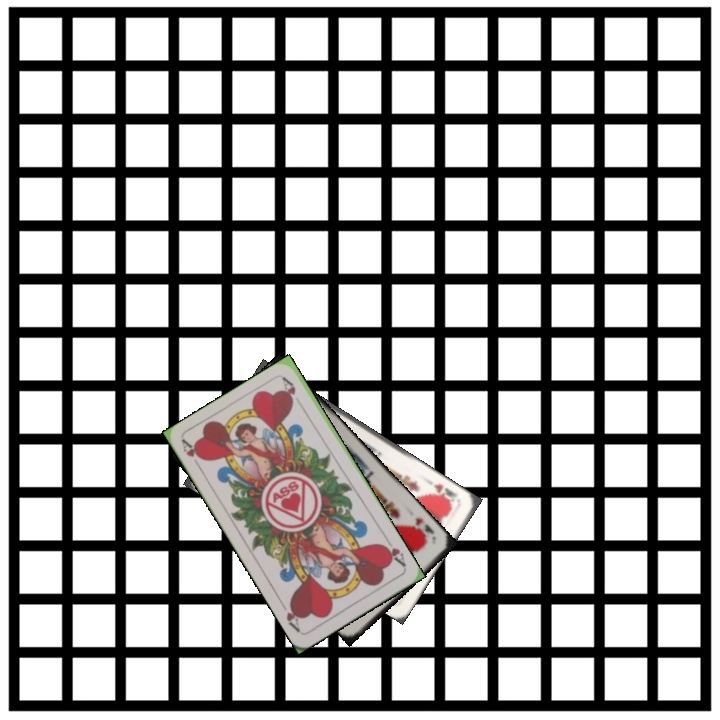HA: (377, 534, 409, 570), (178, 436, 206, 473)
HK: (409, 514, 439, 544), (429, 479, 460, 507)
